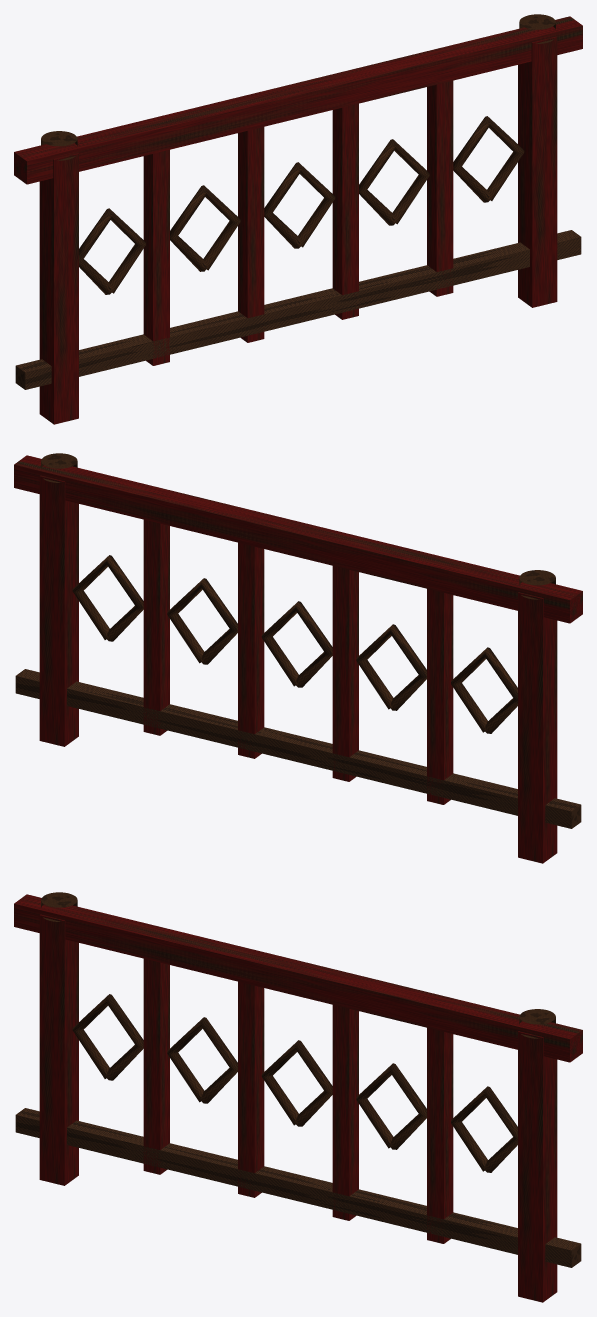
The model's file is railing.glb.
3 renders of one model, top to bottom at view 1: azimuth 30°, elevation 25°; view 2: azimuth 150°, elevation 25°; view 3: azimuth 330°, elevation 25°, orthographic.
Parts seen in each view (by area): view 1: Art_BurntLacquer, RailTop, RailBot, Art_WarmWood, Bar1, Bar4, Bar2, Bar3; view 2: Art_BurntLacquer, RailTop, RailBot, Art_WarmWood, Bar4, Bar1, Bar3, Bar2; view 3: Art_BurntLacquer, RailTop, RailBot, Art_WarmWood, Bar1, Bar4, Bar2, Bar3.
Boxes of the visible parts, <box> form: Art_BurntLacquer: <box>39,36,557,424</box>; RailTop: <box>14,16,582,184</box>; RailBot: <box>15,230,581,389</box>; Art_WarmWood: <box>41,14,555,294</box>; Bar1: <box>143,150,169,365</box>; Bar4: <box>427,80,453,296</box>; Bar2: <box>238,127,264,342</box>; Bar3: <box>332,103,358,319</box>; Art_BurntLacquer: <box>39,475,557,863</box>; RailTop: <box>14,455,582,623</box>; RailBot: <box>15,669,581,828</box>; Art_WarmWood: <box>41,453,555,733</box>; Bar4: <box>143,519,169,735</box>; Bar1: <box>427,589,453,804</box>; Bar3: <box>238,542,264,758</box>; Bar2: <box>332,566,358,781</box>; Art_BurntLacquer: <box>39,914,557,1302</box>; RailTop: <box>14,894,582,1062</box>; RailBot: <box>15,1108,581,1267</box>; Art_WarmWood: <box>41,892,555,1172</box>; Bar1: <box>143,958,169,1174</box>; Bar4: <box>427,1028,453,1243</box>; Bar2: <box>238,981,264,1197</box>; Bar3: <box>332,1005,358,1220</box>.
Size of what is drawn, in the model's own units: 2 by 0.954 by 0.114.
Materials: 4 (4 with a texture image).
